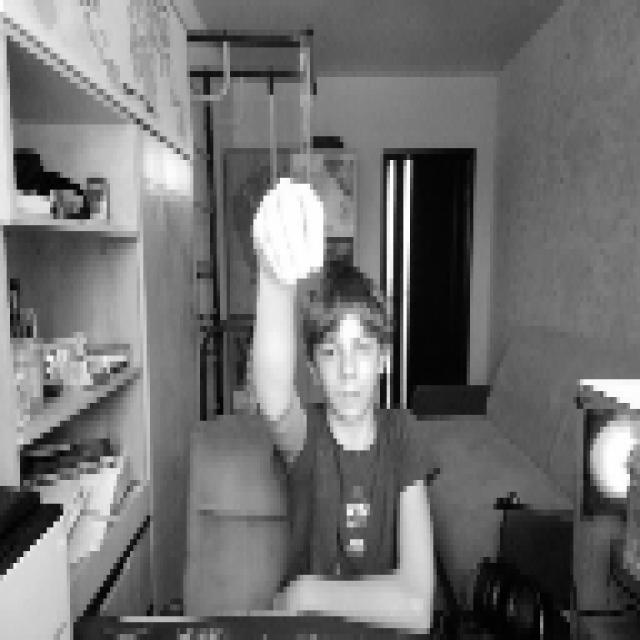left_click: (250, 166, 323, 278)
